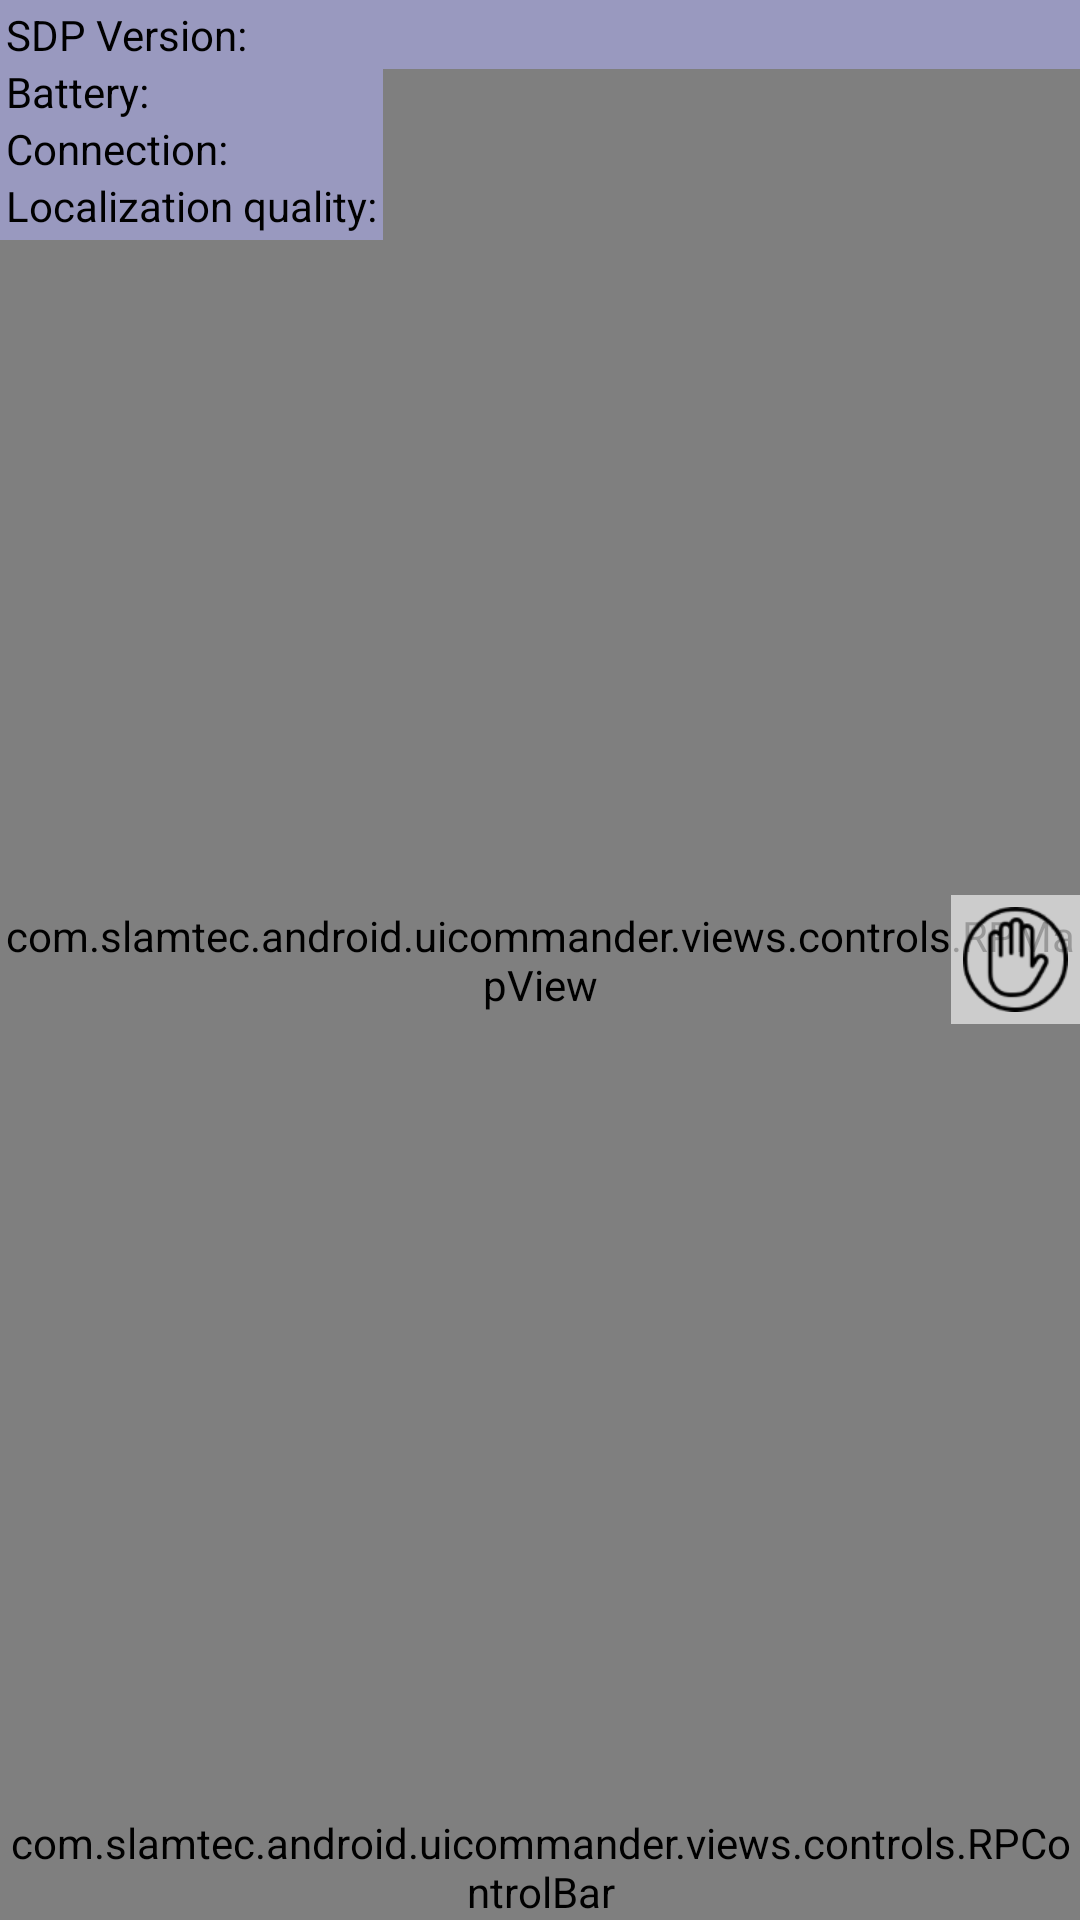

Locate icon controls on the screen. Image size 1080 × 1920, boxes as (x1, y1, x2, y2).
cancel action: (951, 895, 1080, 1024)
